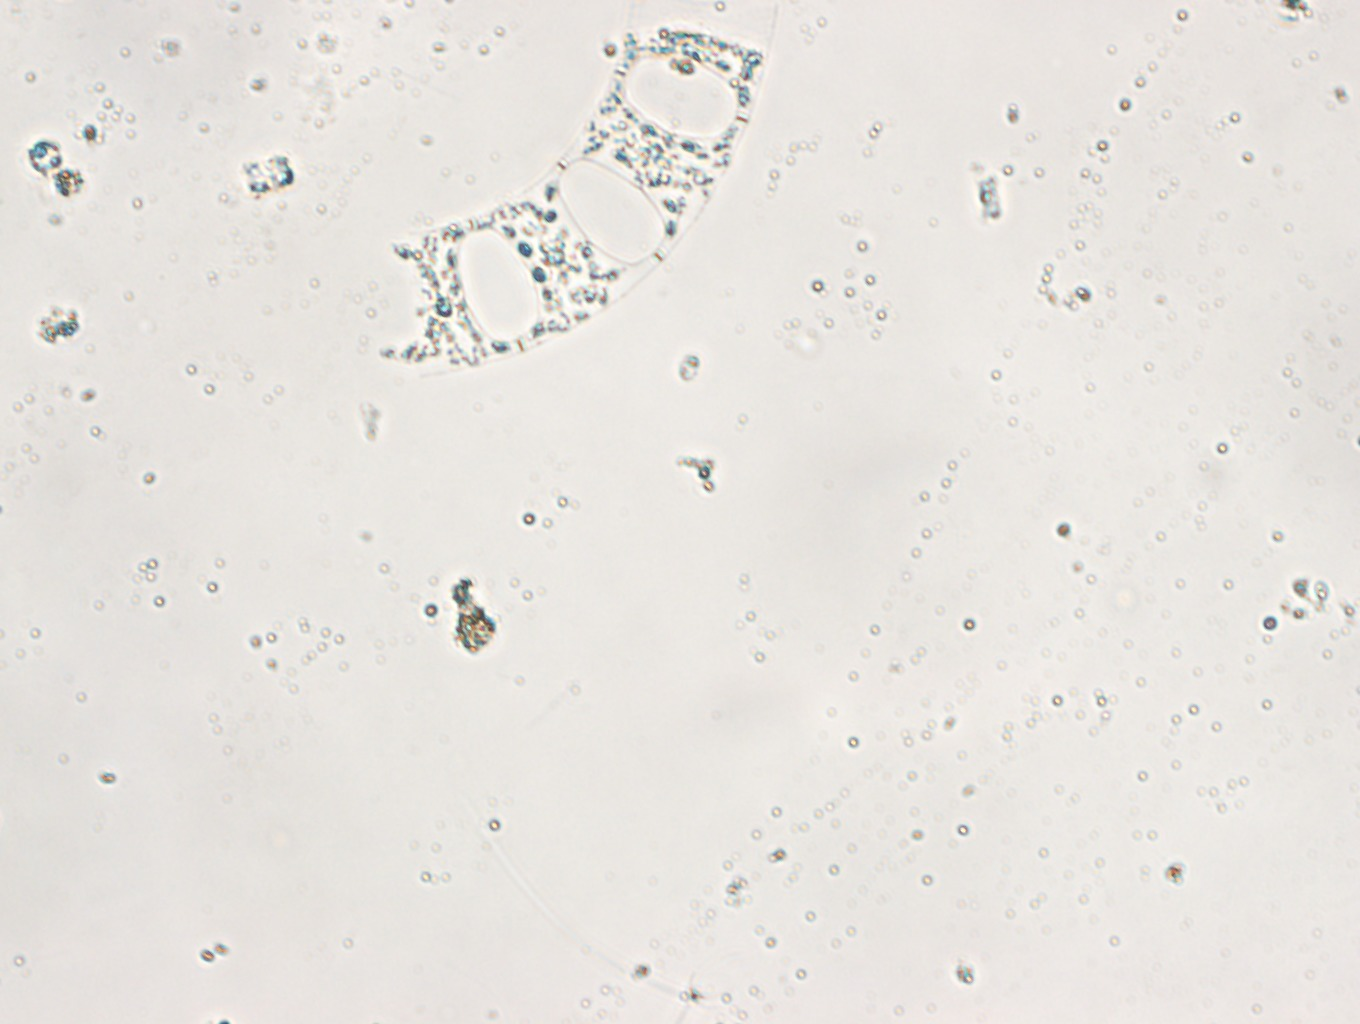eucampia: (368, 1, 785, 385)
